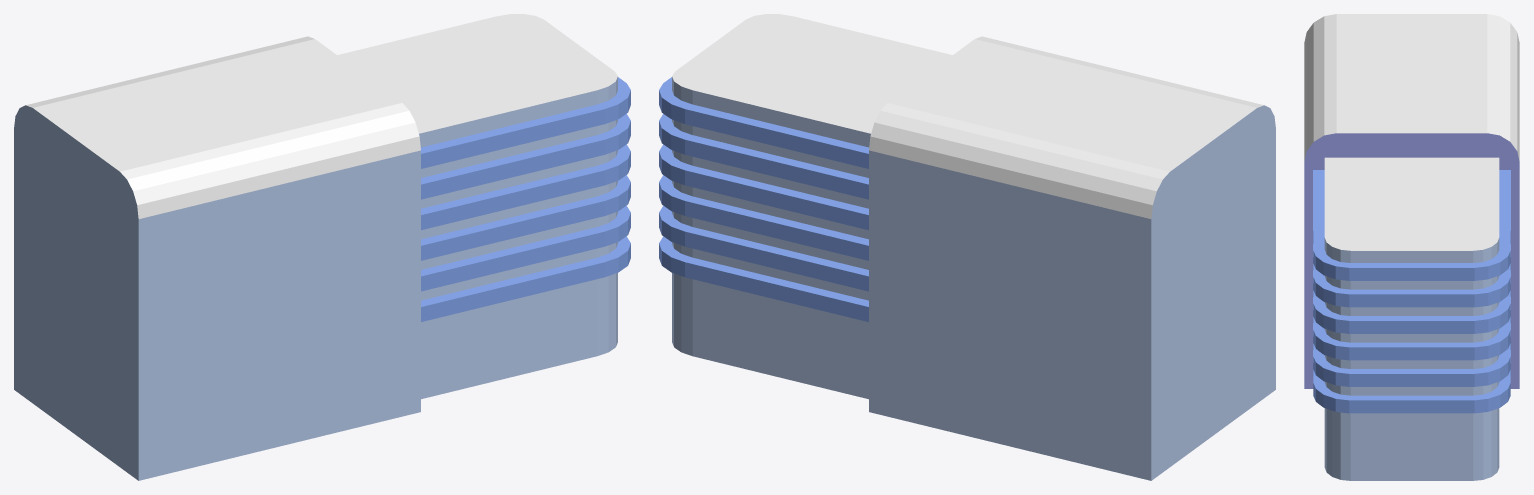
File: Building_042.fbx
The picture shows the model from 3 angles, left to right: view 1: azimuth 30°, elevation 25°; view 2: azimuth 150°, elevation 25°; view 3: azimuth 270°, elevation 25°; orthographic projection. The views are drawn at different scales.
Visible parts, largest first — view 1: Building_042; view 2: Building_042; view 3: Building_042.
Part boxes in pixels (x1,y1,x2,y2): Building_042: (14,14,630,480); Building_042: (659,14,1275,480); Building_042: (1304,14,1519,480).
Bounding box in the file's own units: 39.43 × 21.65 × 16.54.
